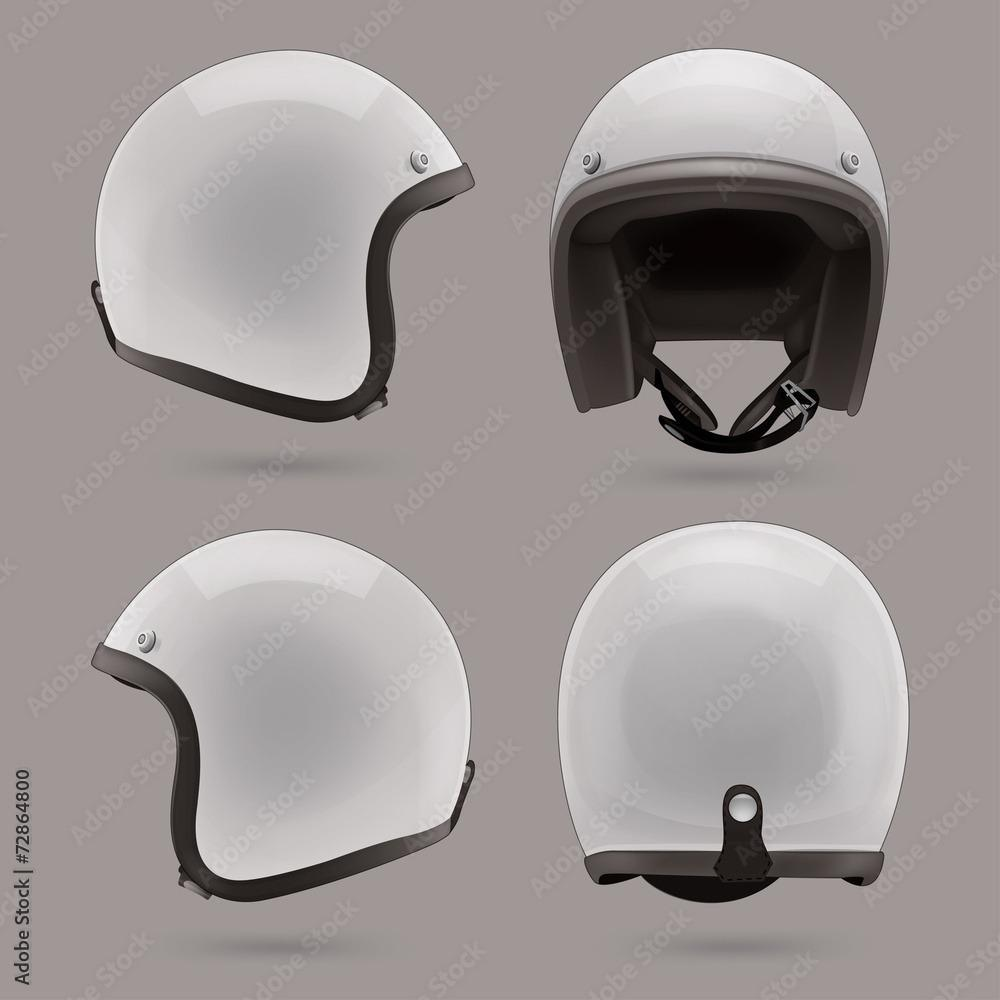helmet: (90, 42, 479, 428), (88, 525, 477, 906), (545, 42, 893, 456), (555, 515, 913, 906)
